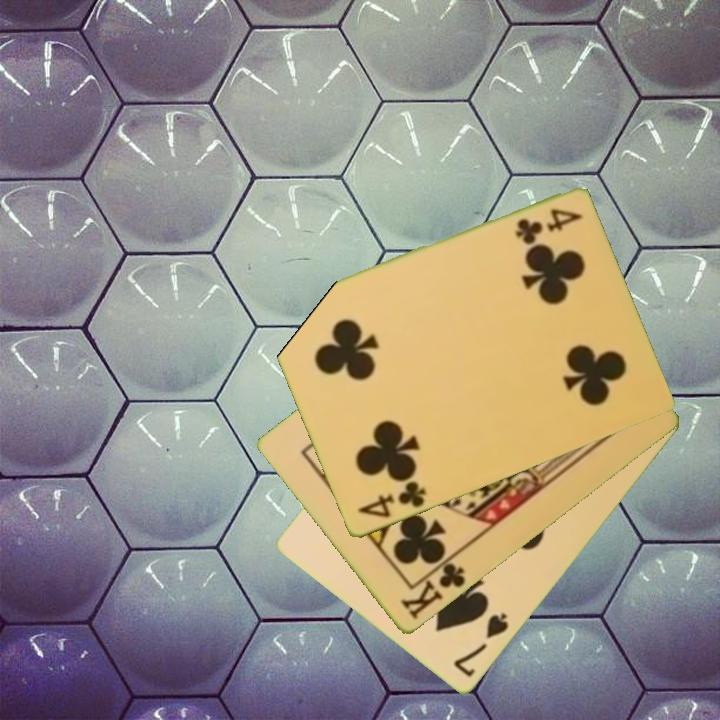4c: (354, 477, 429, 522), (512, 205, 585, 245)
7s: (450, 609, 512, 681)
Kc: (397, 552, 469, 623)
